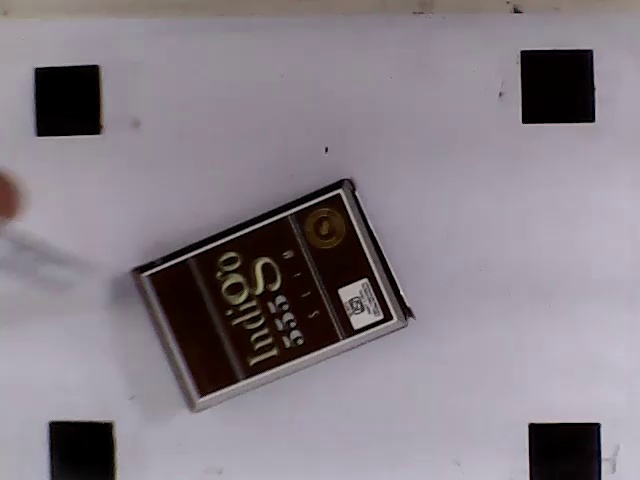BEX: (143, 193, 393, 397)
